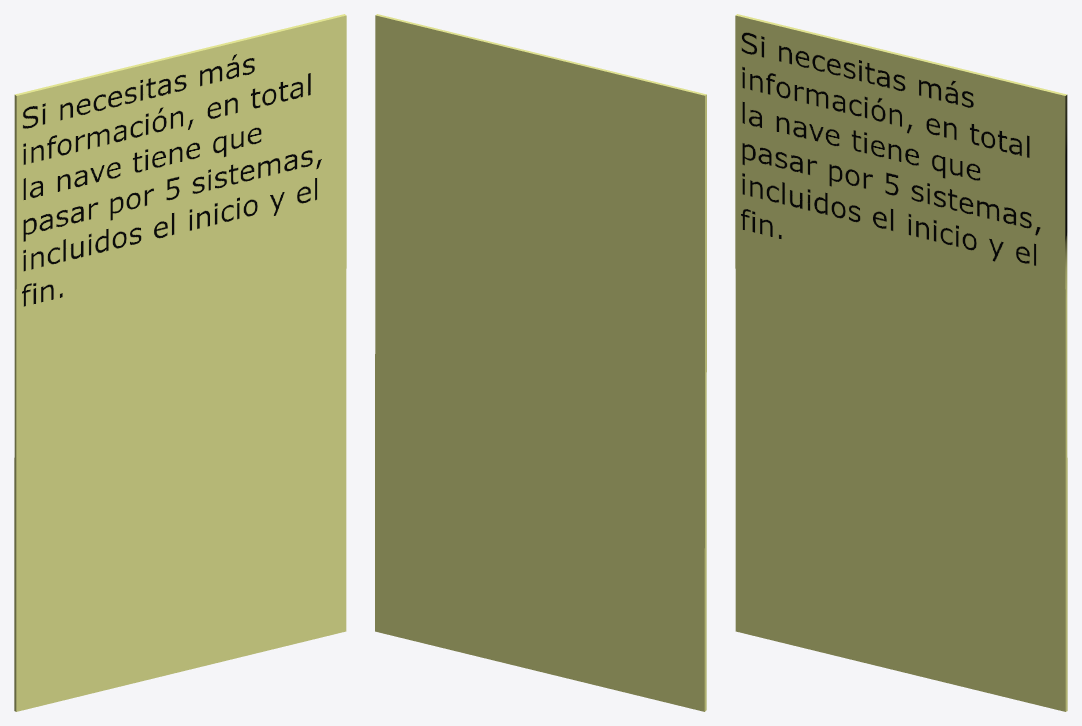
File: Pista5.fbx
The picture shows the model from 3 angles, left to right: view 1: azimuth 30°, elevation 25°; view 2: azimuth 150°, elevation 25°; view 3: azimuth 330°, elevation 25°; orthographic projection.
Parts seen in each view (by area): view 1: Cylinder; view 2: Cylinder; view 3: Cylinder.
Boxes of the visible parts, x1=… form: Cylinder: x1=14, y1=14, x2=346, y2=711; Cylinder: x1=375, y1=14, x2=706, y2=711; Cylinder: x1=735, y1=14, x2=1067, y2=711.
Size of the model in its own units: 9 by 16.07 by 0.1023.
Materials: 1 (1 with a texture image).
